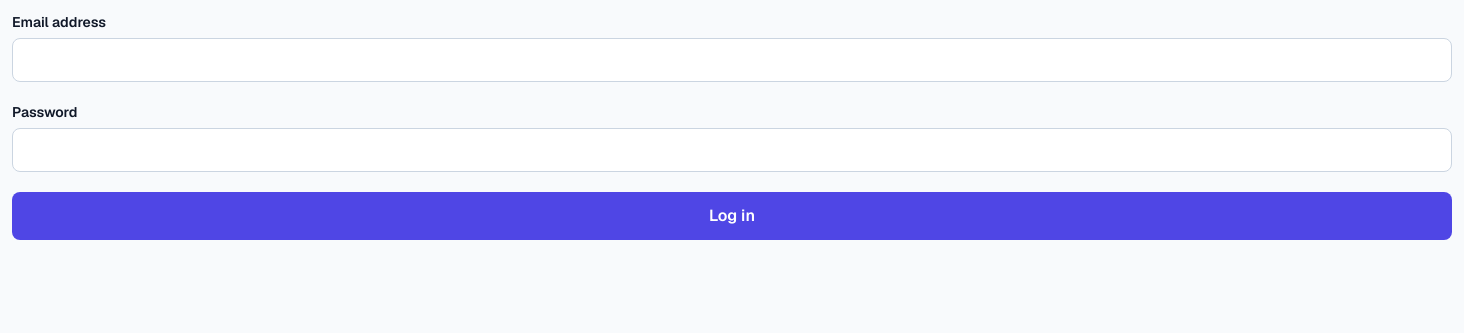
Test case: log in never leaves the button on 'Logging in…' › a timeout ends the busy state with a clear message
Step 1. Type "s@example.test" into the field labelled "Email address" → (732, 60), box [12, 38, 1452, 82]
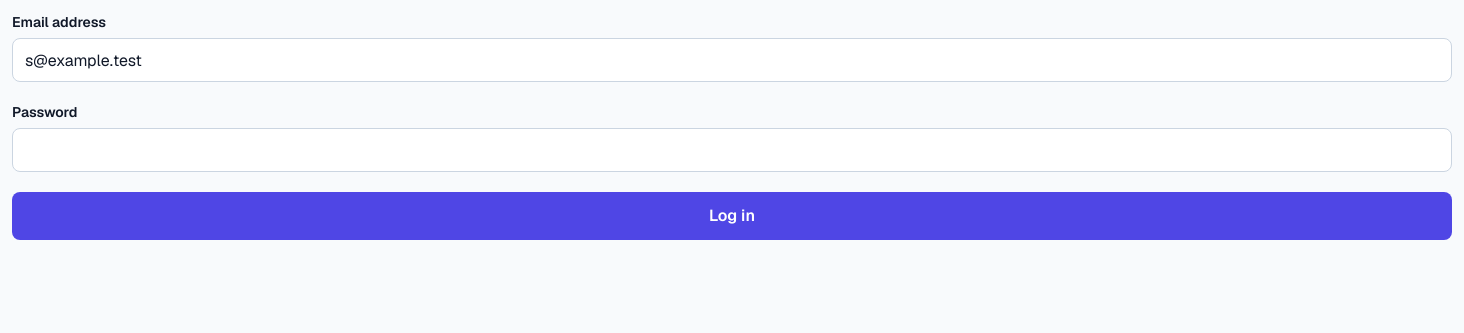
Step 2. Type "correct horse battery 7" into the password field labelled "Password" → (732, 150), box [12, 128, 1452, 172]
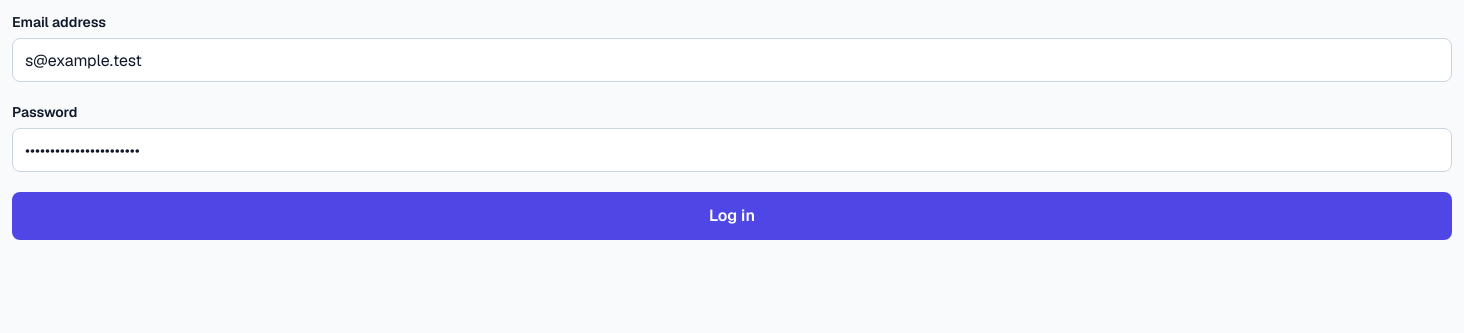
Step 3. Submit the submit button
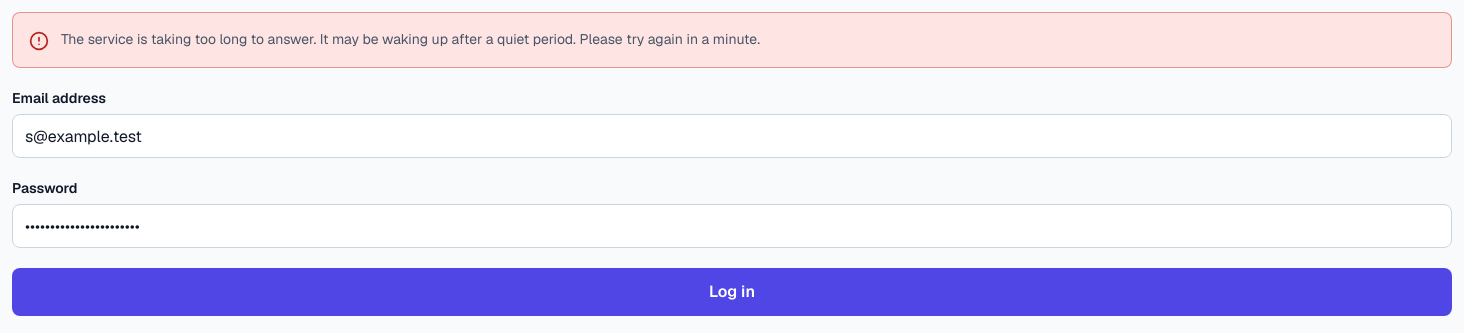
Expected: the submit button is enabled, [12, 268, 1452, 316]
Expected: the text "taking too long to answer" is shown, [61, 30, 760, 48]
